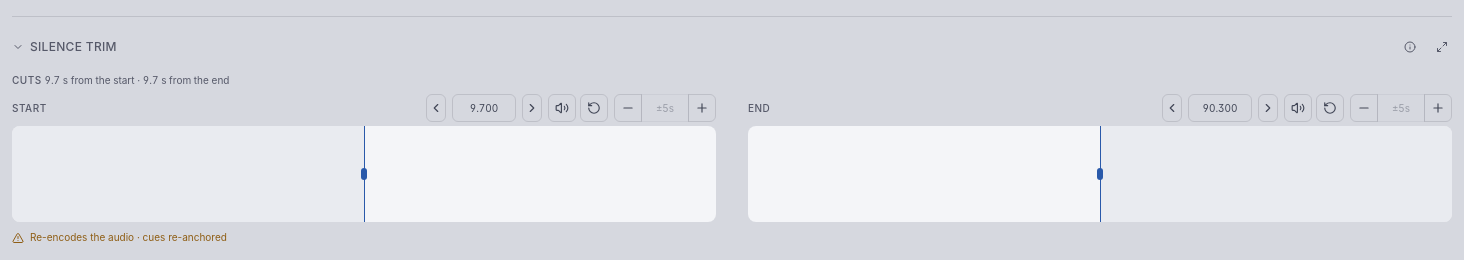
Test: TrimSection › narrows a lane down to a quarter-second of context
Expected: the button with test id "trim-context-start" is shown, [641,94,689,122]
Click the button with test id "trim-zoom-in-start" at {"x": 702, "y": 108}, box [688,94,716,122]
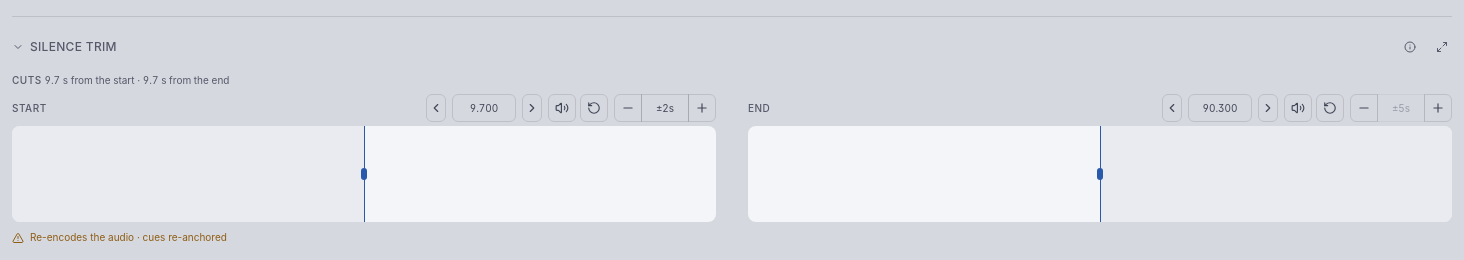
Click the button with test id "trim-zoom-in-start" at {"x": 702, "y": 108}, box [688,94,716,122]
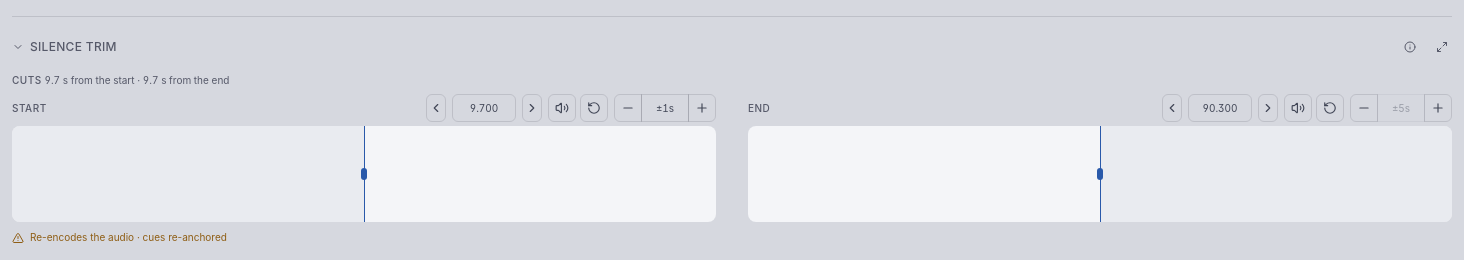
Click the button with test id "trim-zoom-in-start" at {"x": 702, "y": 108}, box [688,94,716,122]
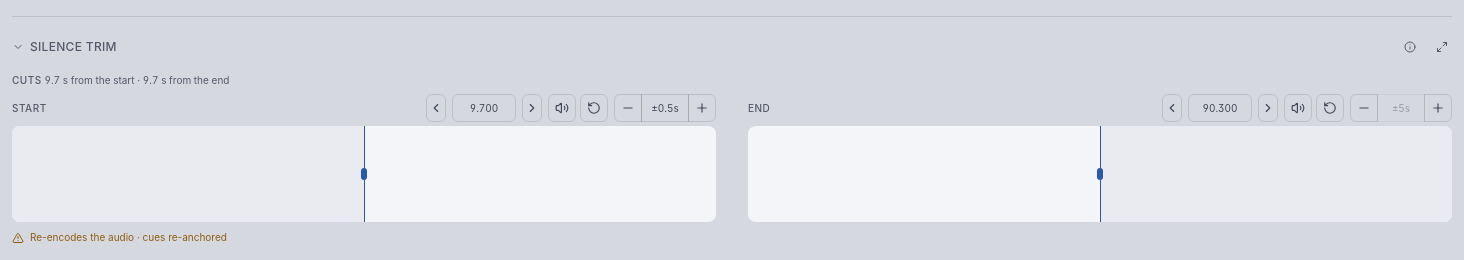
Click the button with test id "trim-zoom-in-start" at {"x": 702, "y": 108}, box [688,94,716,122]
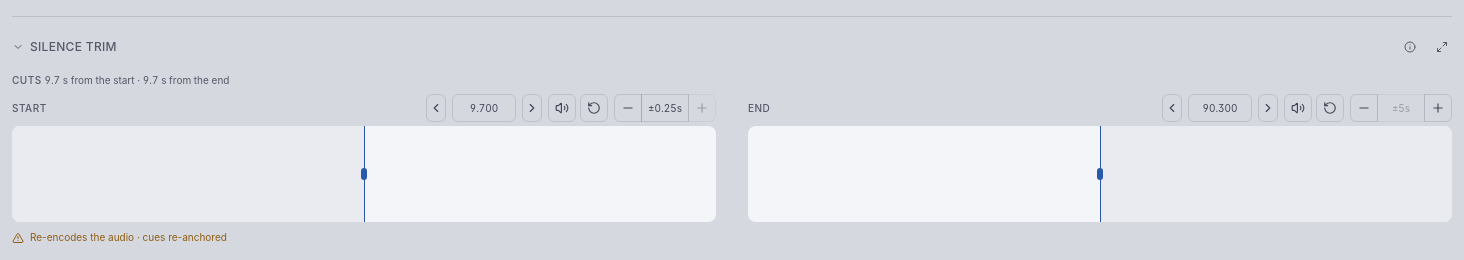
Result: the button with test id "trim-context-start" reads "±0.25s" at [641,94,689,122]
Result: the button with test id "trim-zoom-in-start" is disabled at [688,94,716,122]
